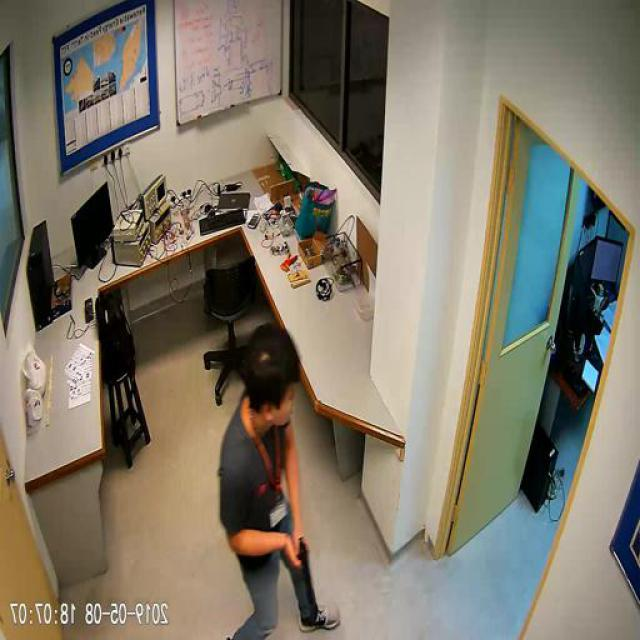Gun: (299, 535, 315, 606)
